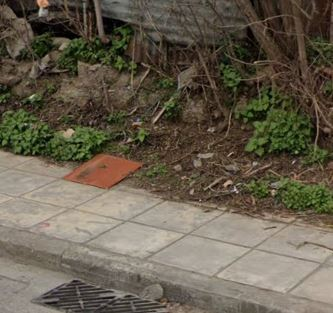trash: (60, 135, 149, 202)
